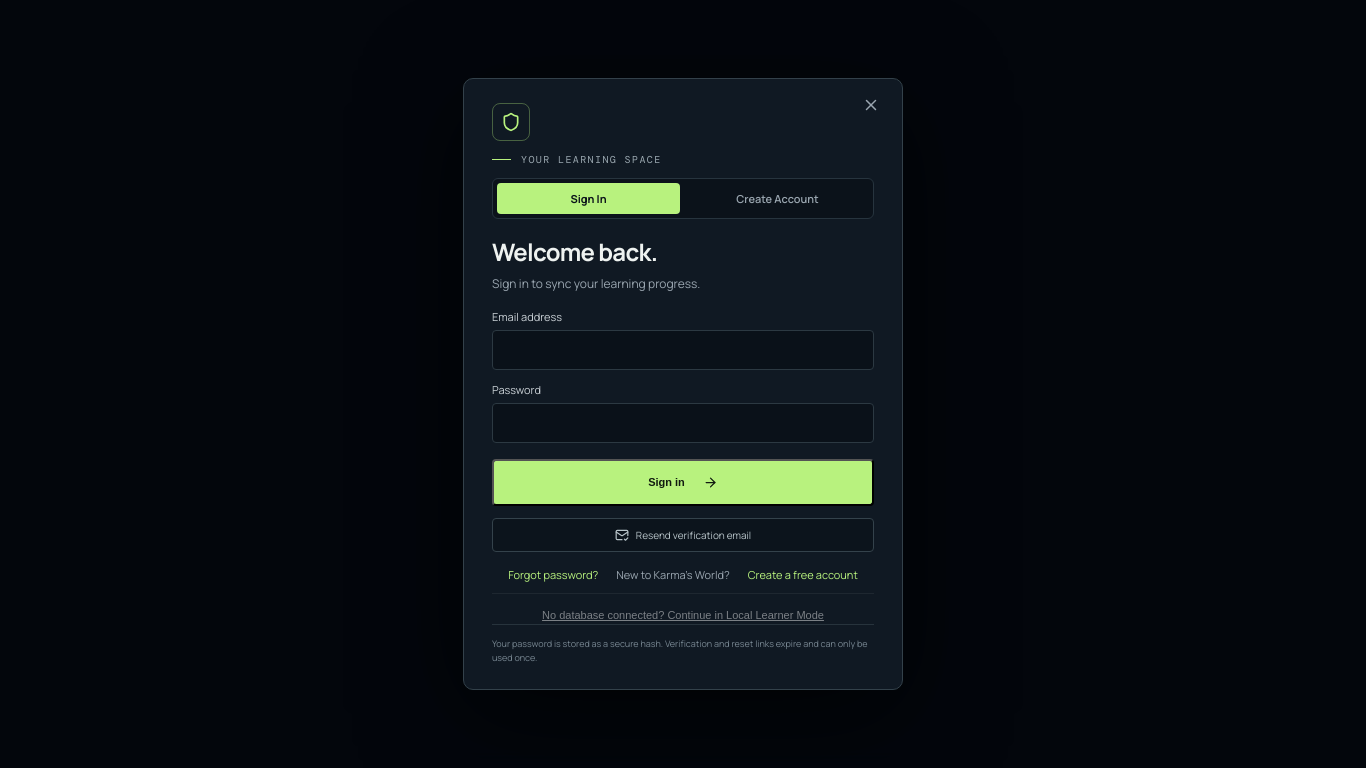
sign-up and recovery dialog › sends a generic password reset request from the sign-in view
Click the button "Forgot password?" at (553, 574), box 502,566 -> 604,583
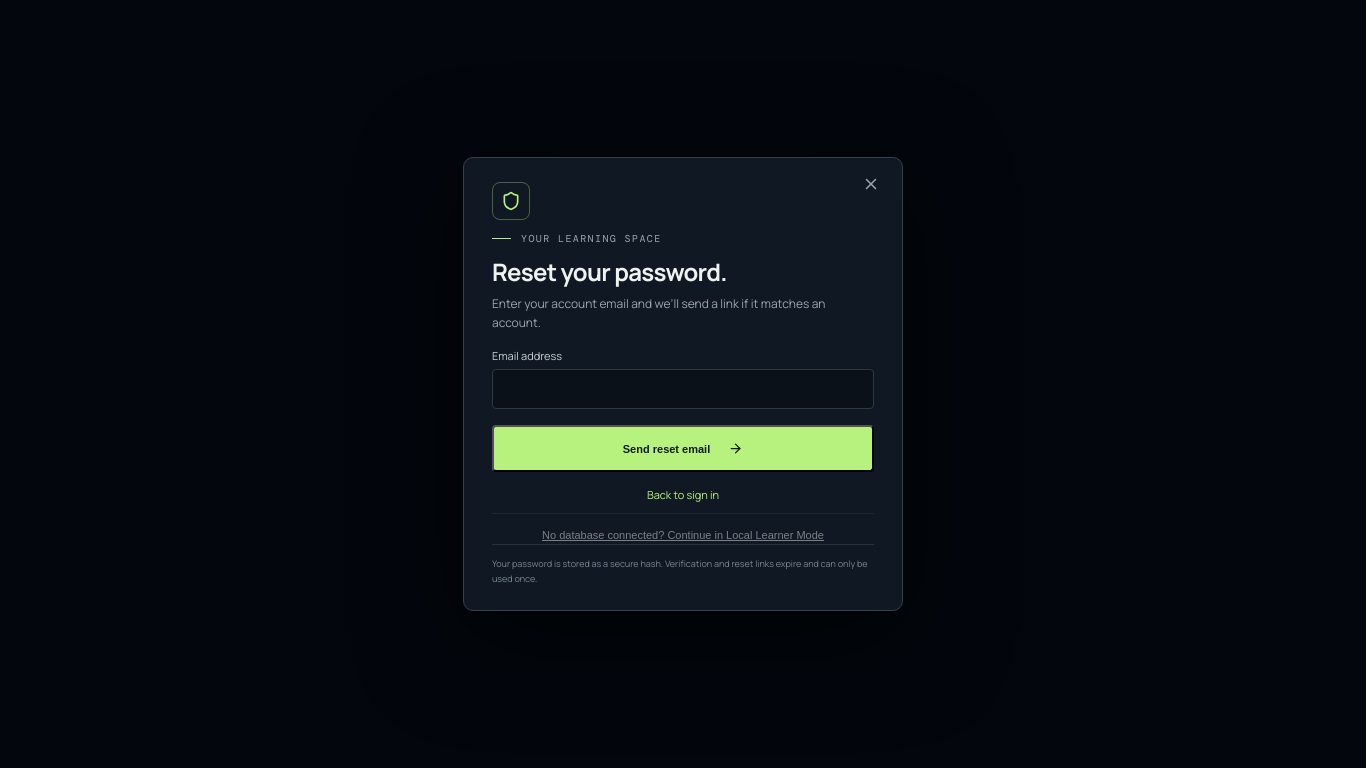
Type "learner@example.com" into the field labelled "Email address" at (683, 389), box 492,369 -> 874,409
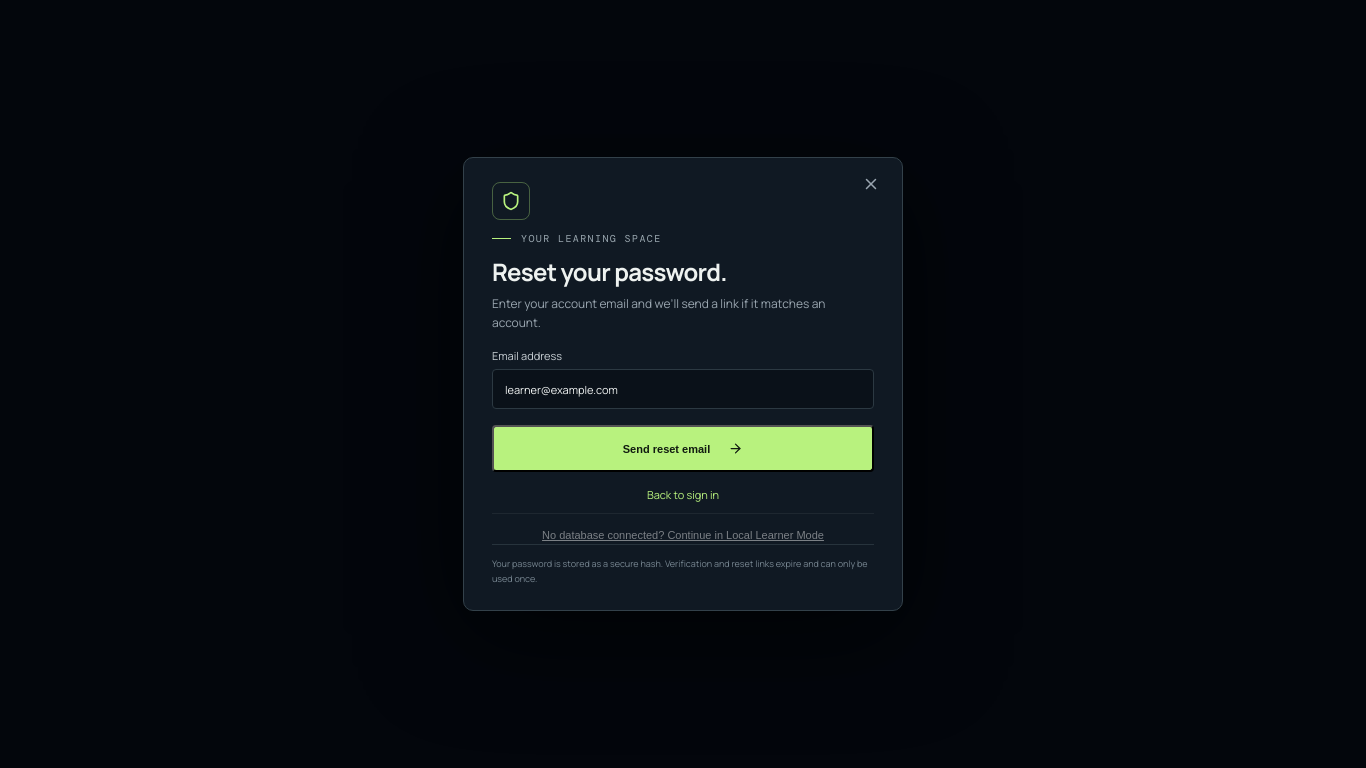
Click the button "Send reset email" at (683, 449), box 492,425 -> 874,472
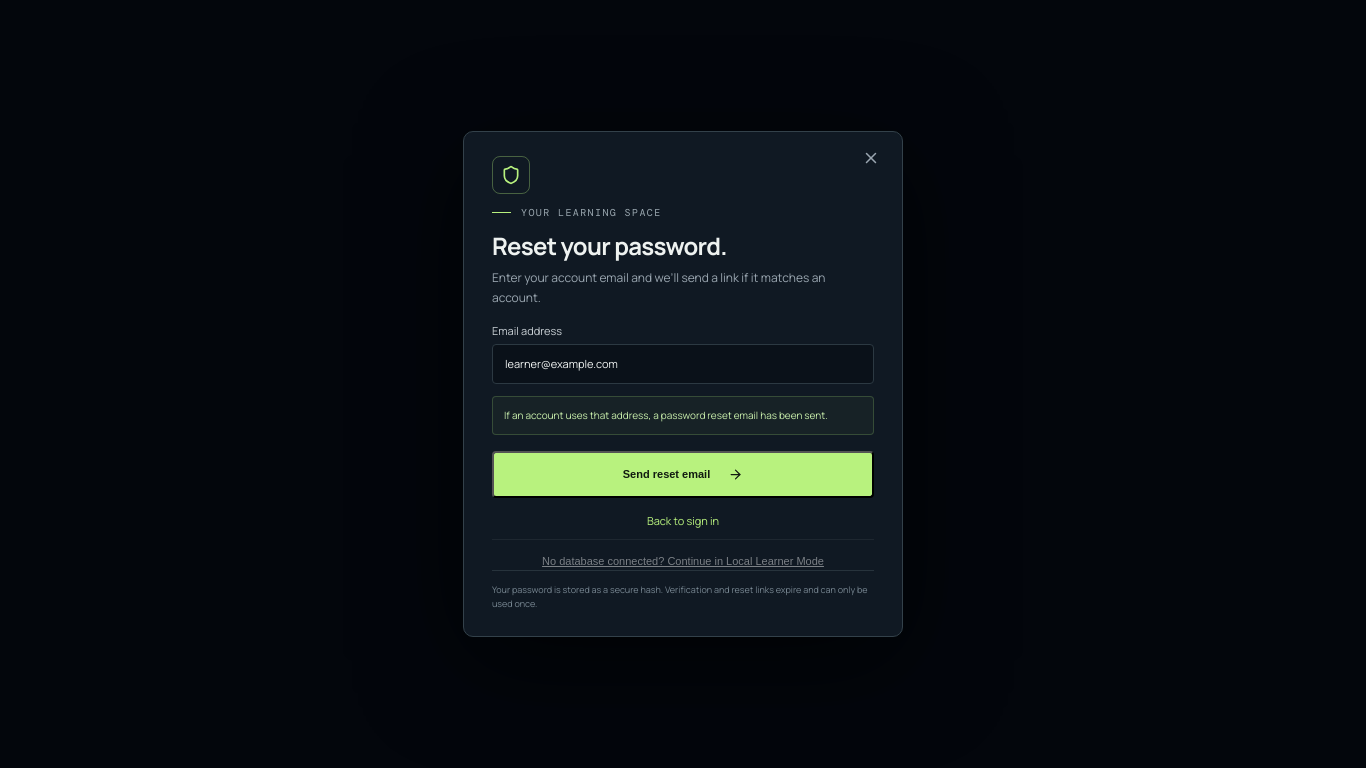
Check: the message shows "If an account uses that address", box 504,408 -> 828,422
